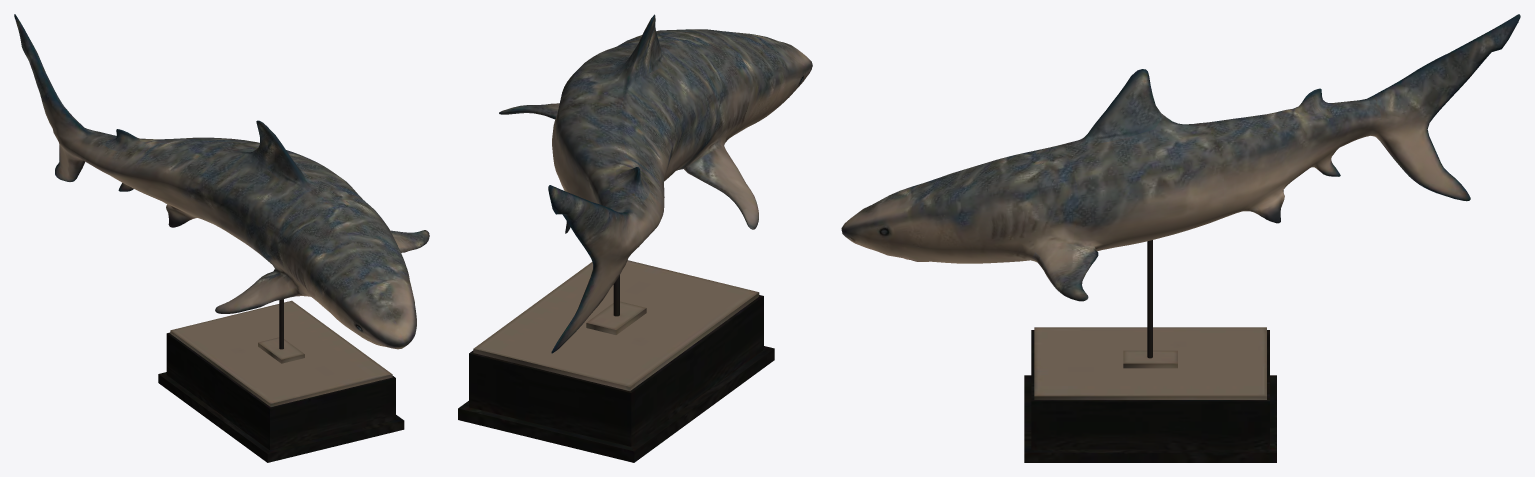
The model's file is bronze_shark_statue.glb.
3 views of the same model, side by side, from view 1: azimuth 30°, elevation 25°; view 2: azimuth 150°, elevation 25°; view 3: azimuth 270°, elevation 25° (orthographic). The views are drawn at different scales.
Parts seen in each view (by area): view 1: bronze_shark_statue; view 2: bronze_shark_statue; view 3: bronze_shark_statue.
Boxes of the visible parts, box(x1,y1,x2,y2) form: bronze_shark_statue: box(14, 14, 429, 462); bronze_shark_statue: box(458, 14, 812, 462); bronze_shark_statue: box(841, 14, 1520, 462).
Size of the model in its own units: 0.3519 by 0.4316 by 0.7598.
1 material, 1 textured.
